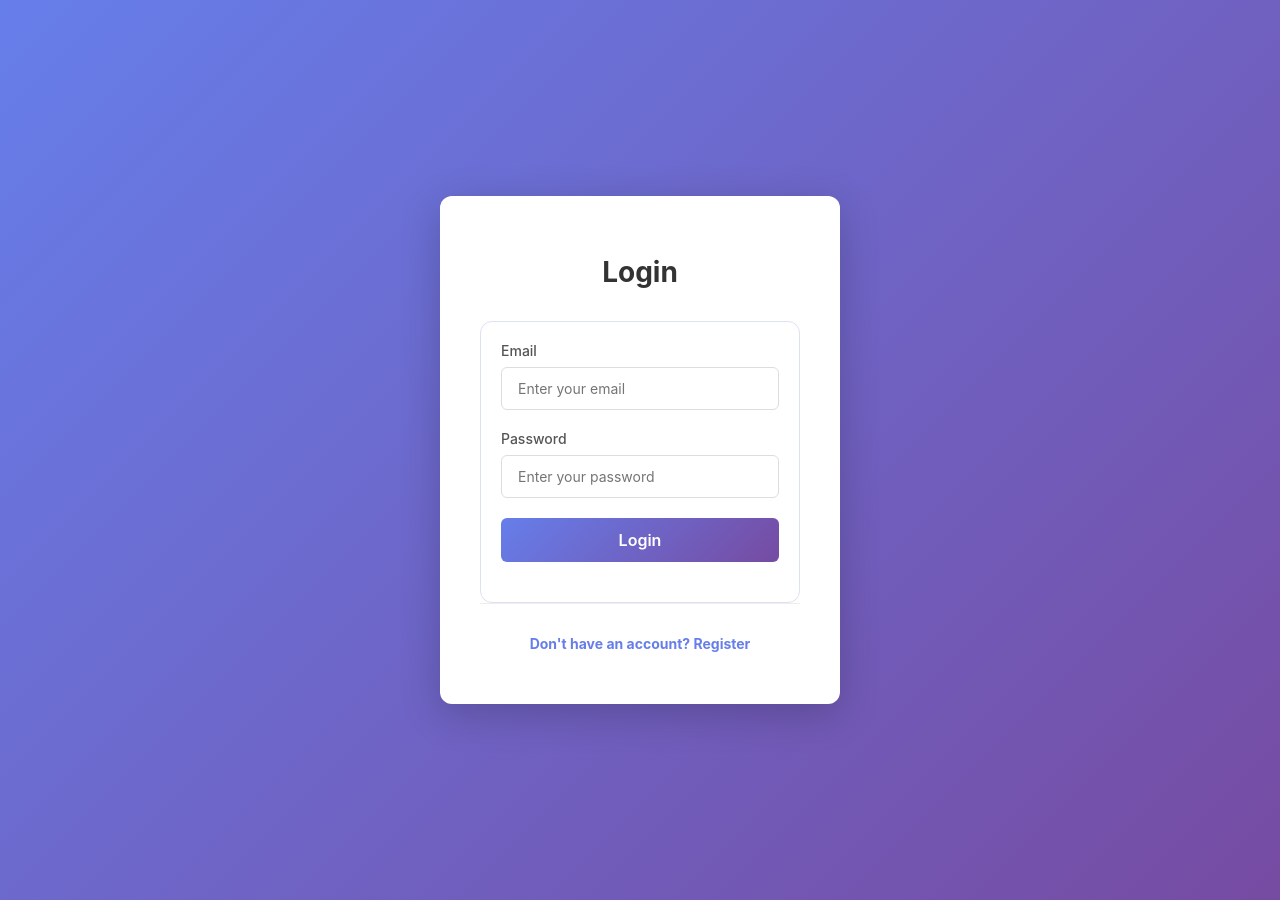
Test case: App routing and authentication › shows an error toast when login fails
Type "user@example.com" into the field with test id "email-input" at (640, 389), box [501,367,779,410]
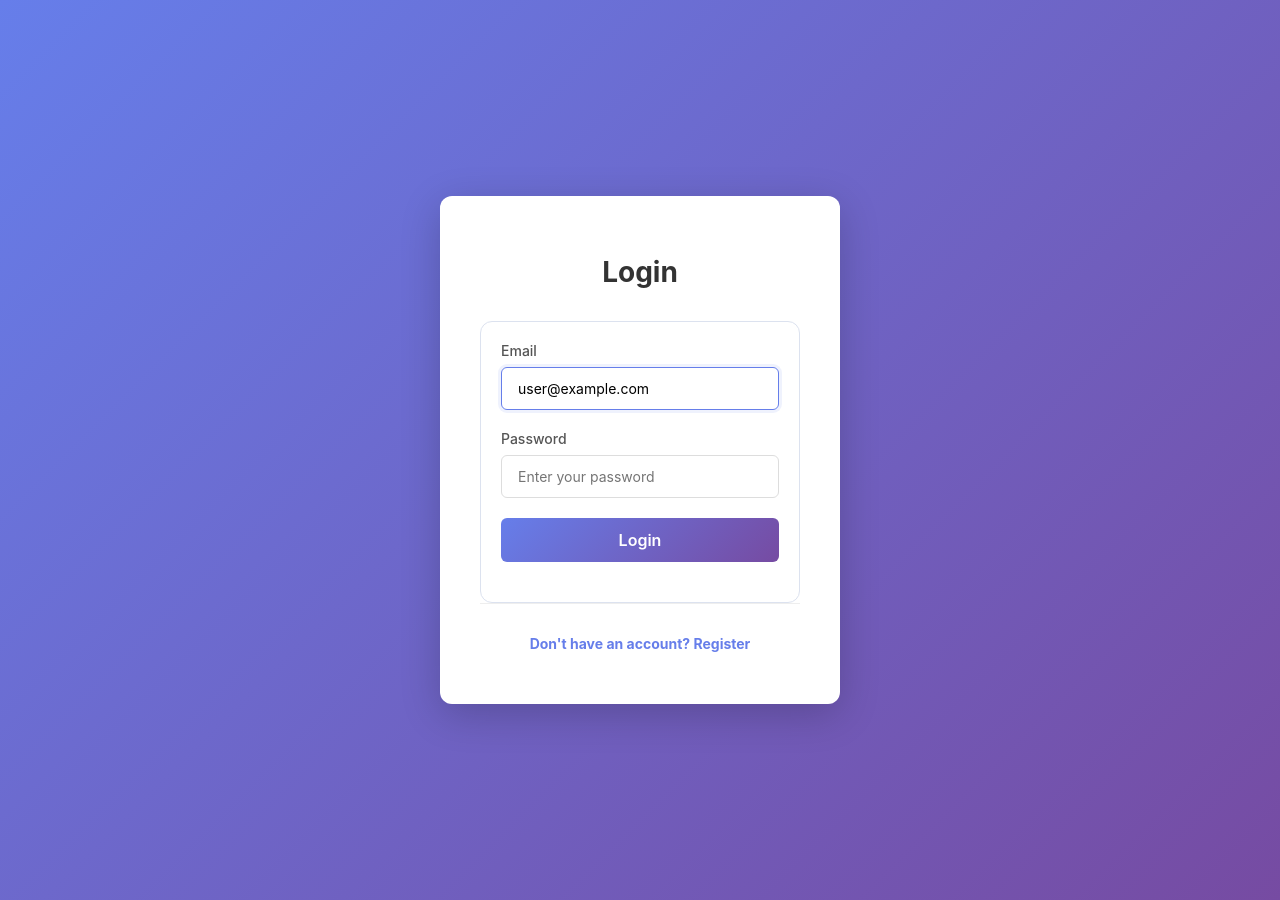
Type "wrong" into the password field with test id "password-input" at (640, 477), box [501,455,779,498]
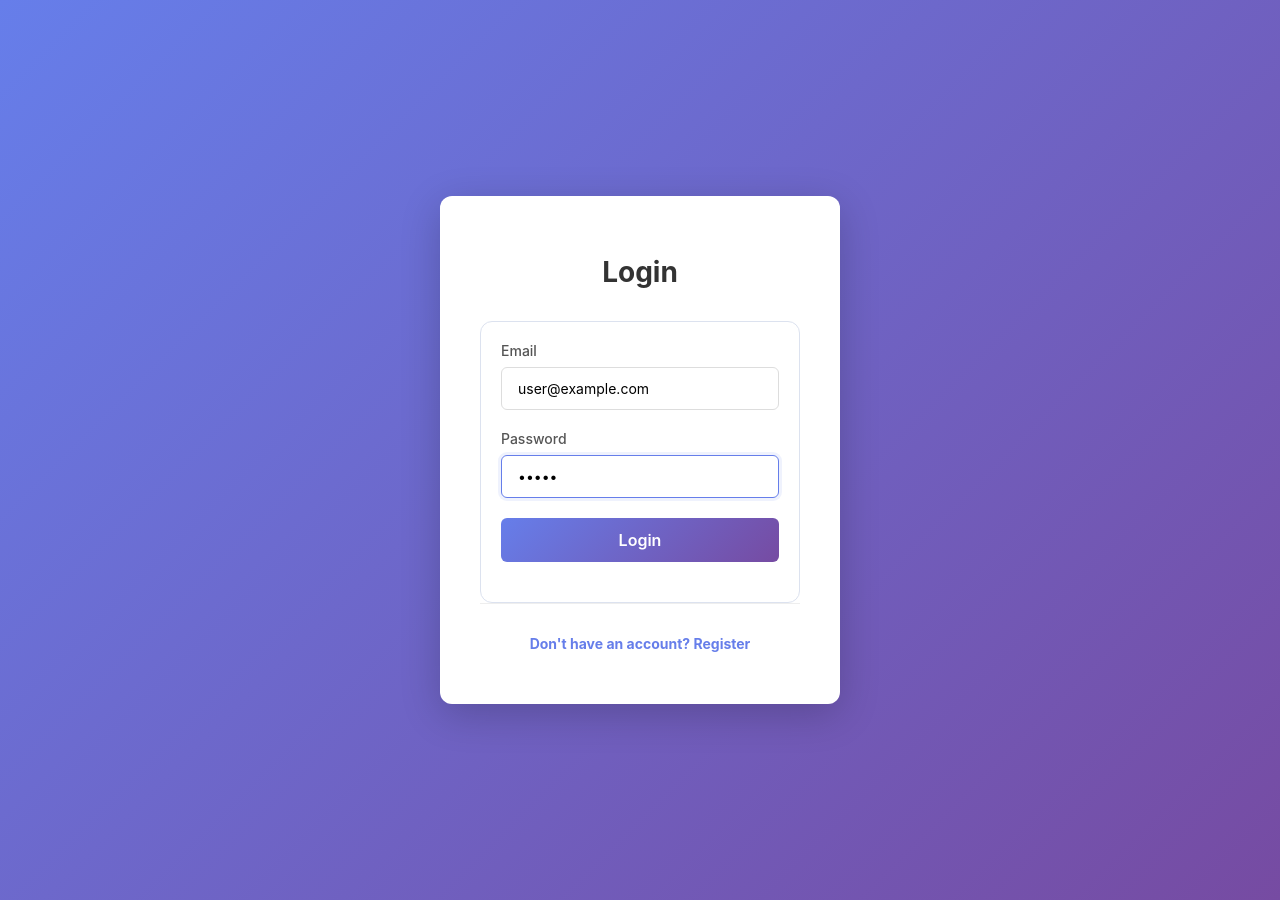
Click the button with test id "login-button" at (640, 540), box [501,518,779,562]
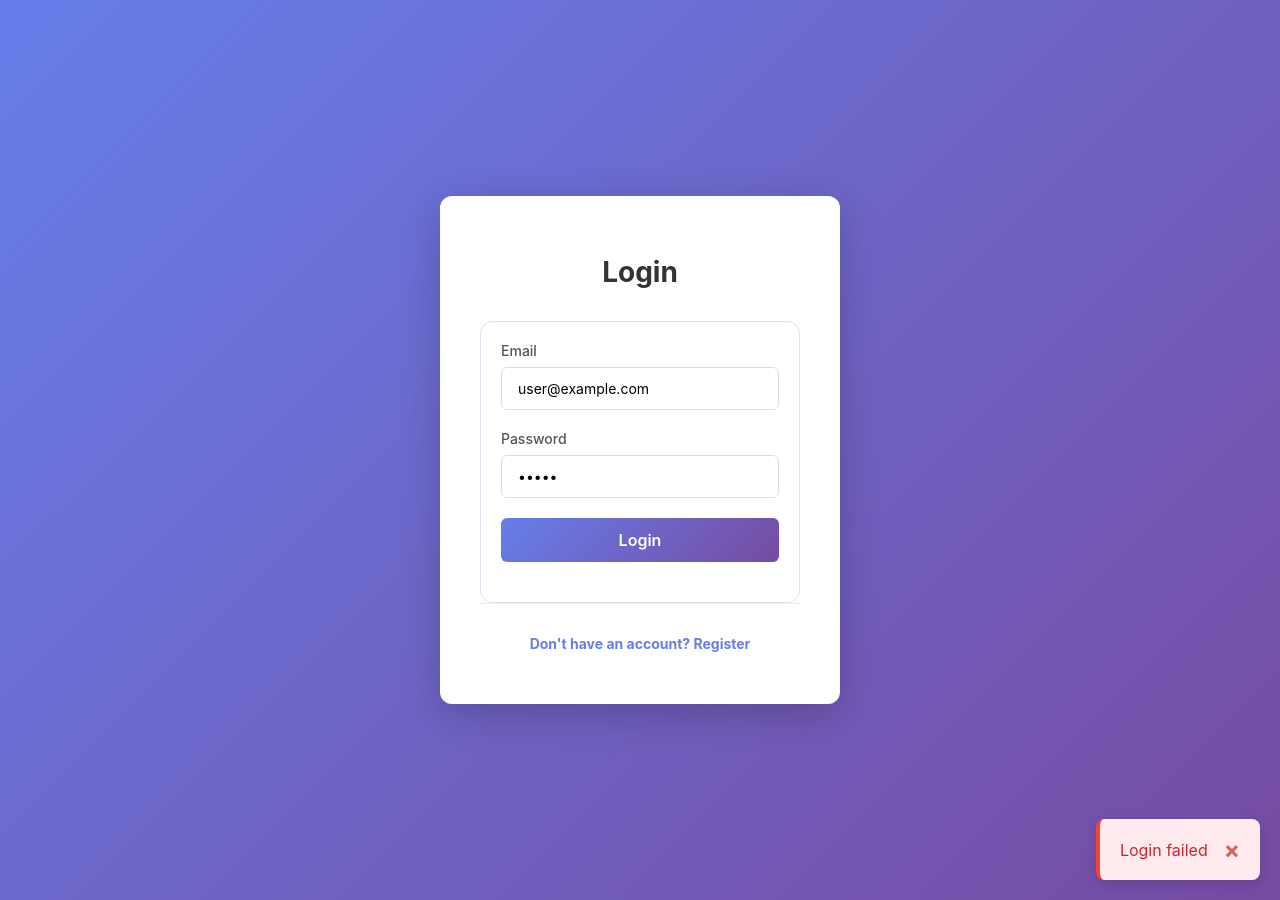
Now the message with test id "toast" shows "Login failed", box [1120,840,1208,860]
